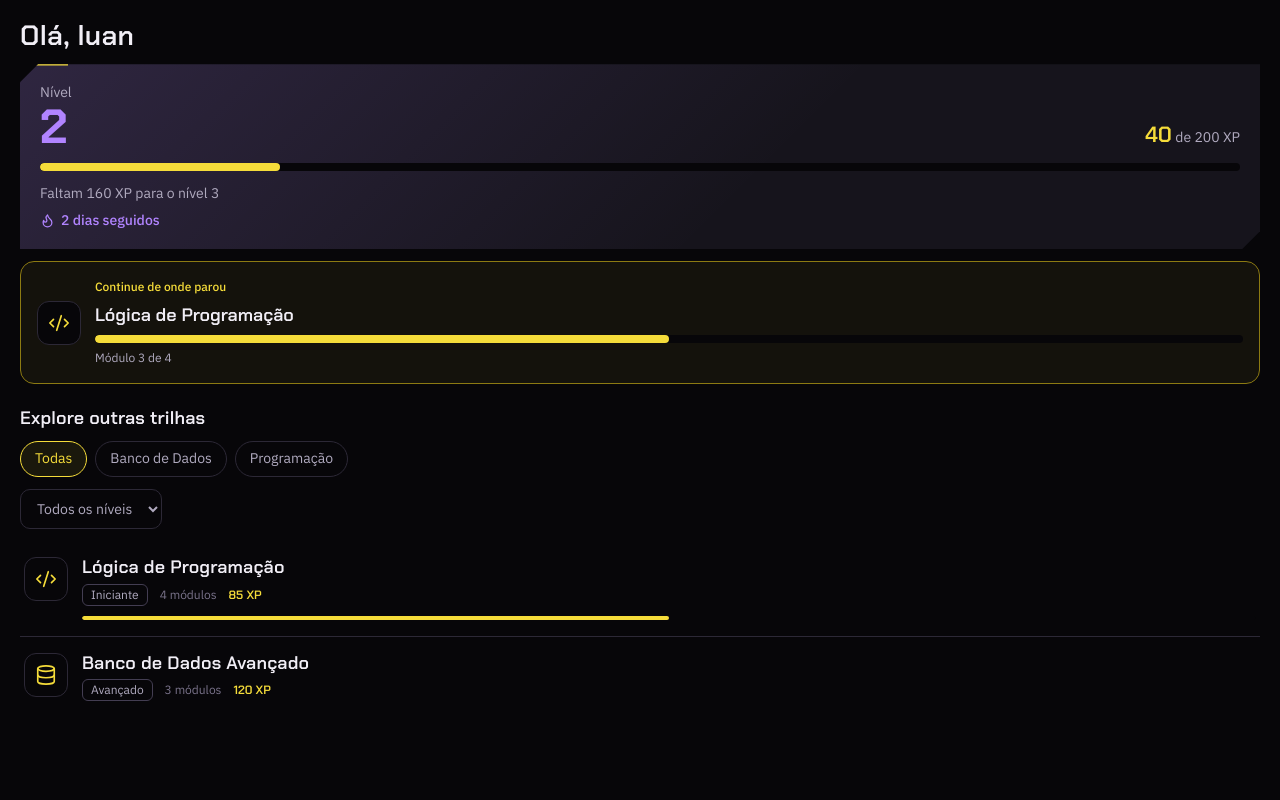
it: ListaTrilhas › filtra as trilhas por área e por nível
expect the heading "Banco de Dados Avançado" is shown: met, box [82, 653, 309, 673]
Click the button "Banco de Dados".
click(161, 459)  # box [95, 441, 227, 477]
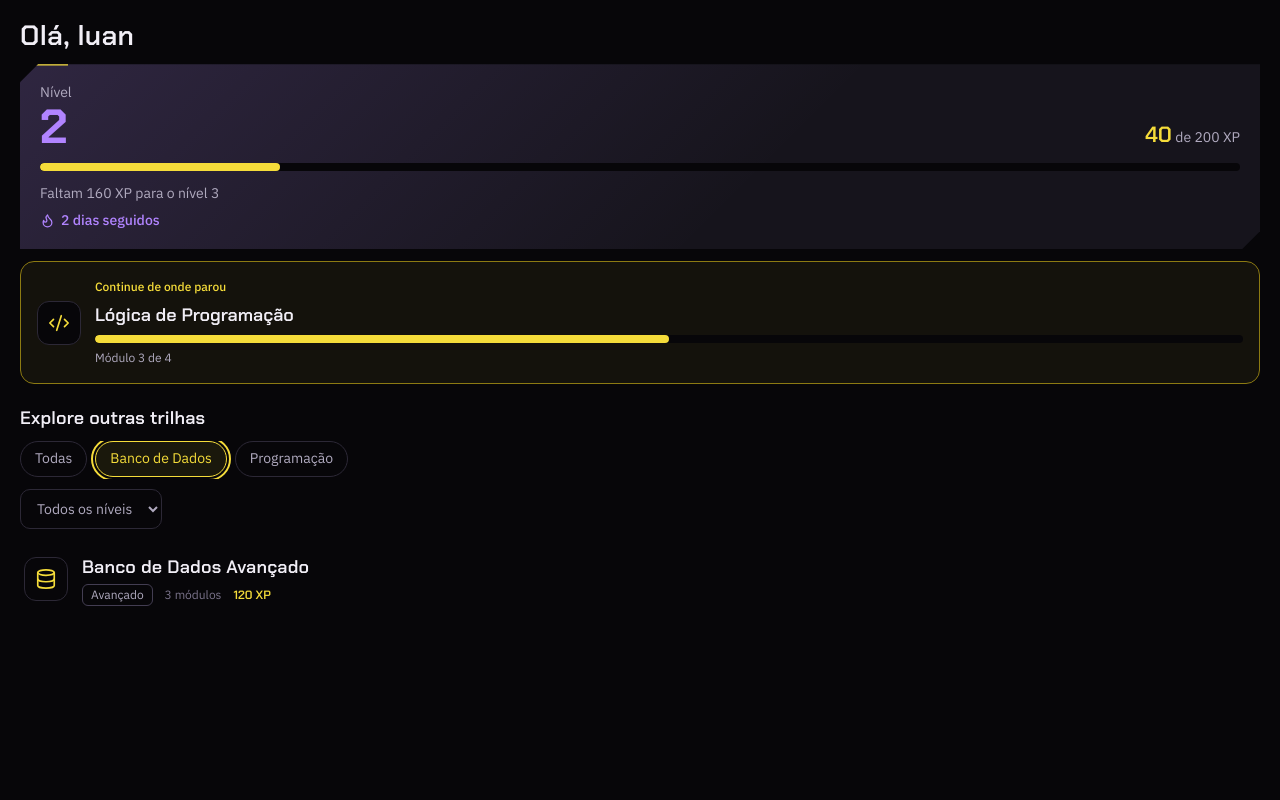
expect the heading "Banco de Dados Avançado" is shown: met, box [82, 557, 309, 578]
Select "Iniciante" in the dropdown named "Nível" at (91, 509), box [20, 489, 162, 529]
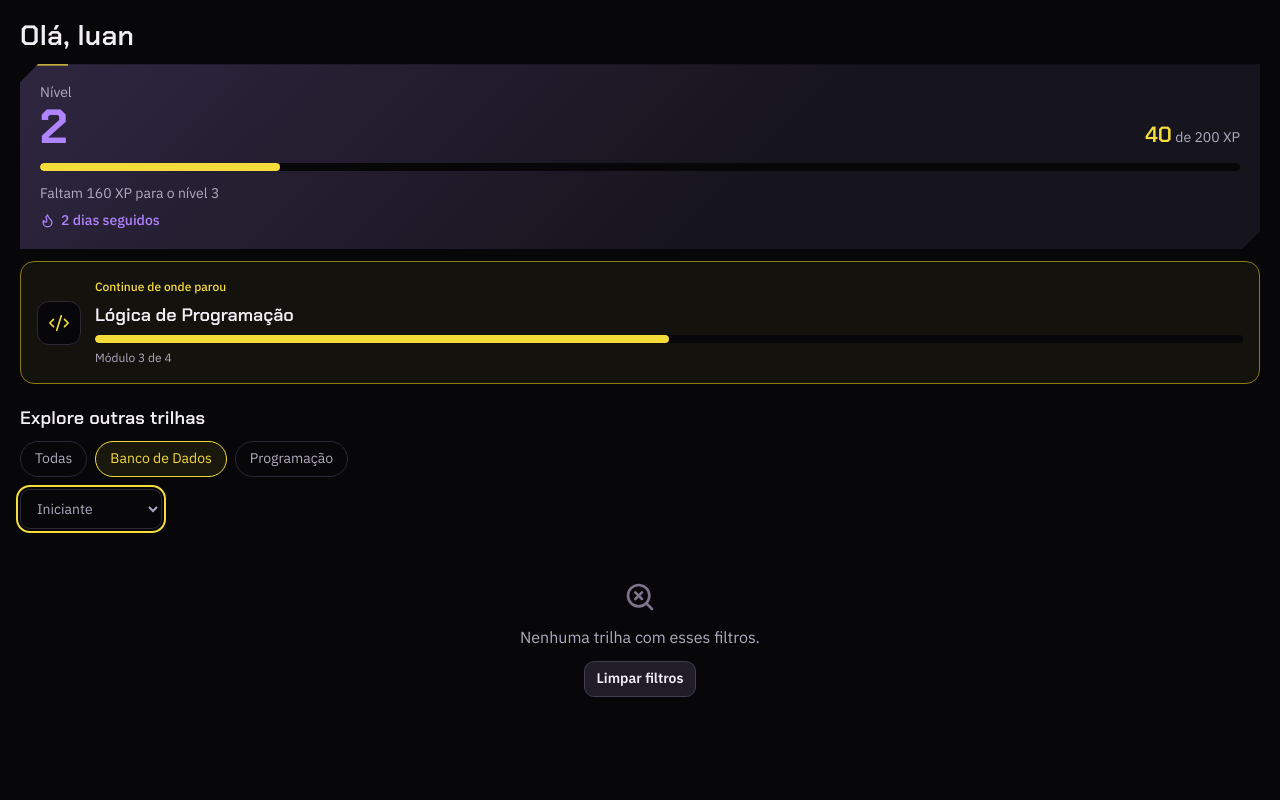
expect the text "Nenhuma trilha com esses filtros." is shown: met, box [520, 625, 760, 649]
Click the button "Limpar filtros".
click(640, 679)  # box [584, 661, 696, 697]
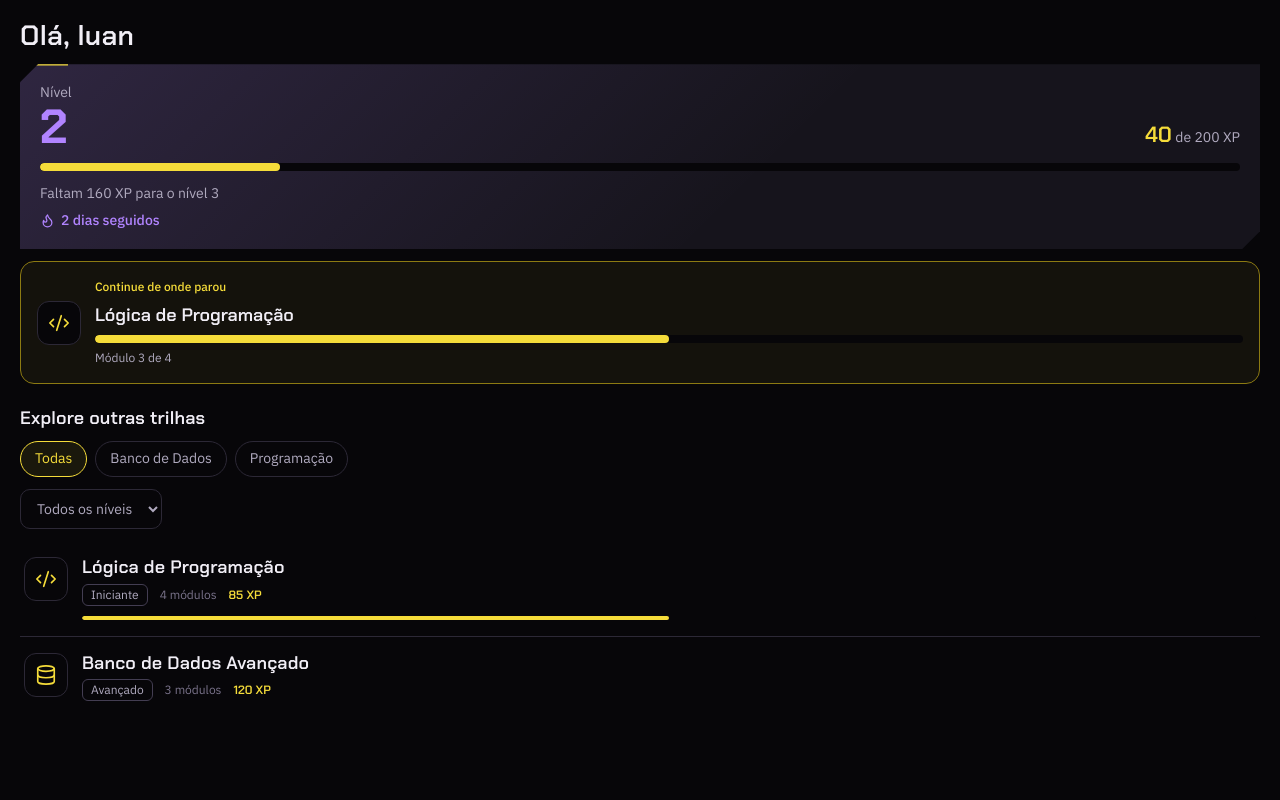
expect the heading "Lógica de Programação" is shown: met, box [82, 557, 285, 578]
